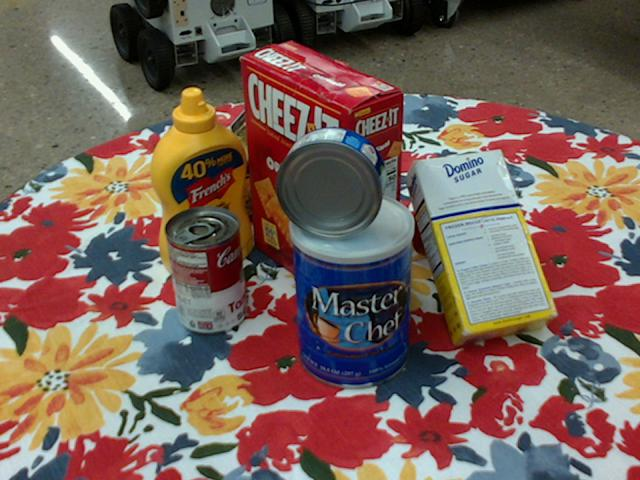cracker_box: (242, 41, 405, 311)
gelatin_box: (286, 128, 365, 206)
large_marker: (226, 84, 280, 140)
master_chef_can: (289, 192, 413, 392)
mug: (407, 156, 499, 262)
mustard_bottle: (149, 88, 252, 278)
potted_meat_can: (201, 127, 295, 230)
sugar_box: (405, 149, 560, 350)
tomato_soup_can: (163, 206, 246, 335)
tuna_fish_can: (275, 126, 387, 238)
